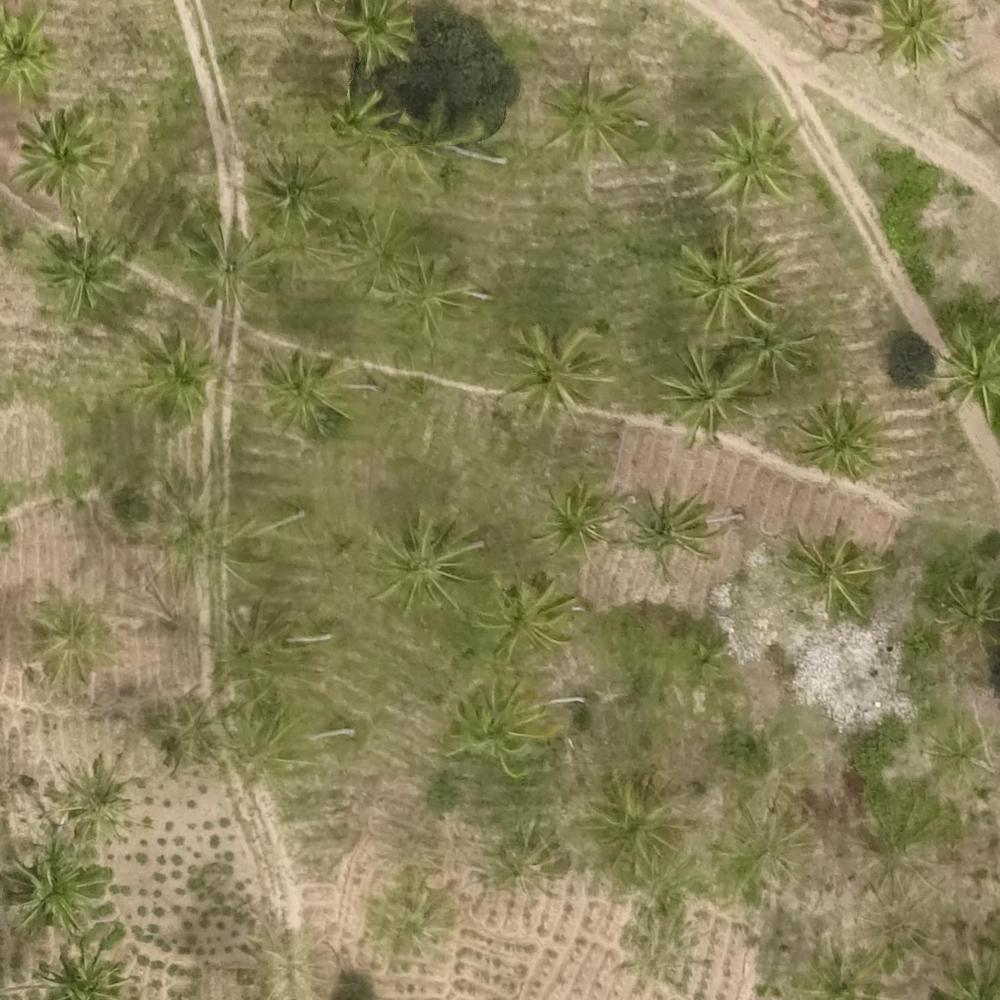Palm: (366, 517, 483, 616), (493, 328, 604, 427), (675, 225, 774, 330), (651, 344, 754, 443), (618, 489, 721, 574), (787, 531, 878, 622), (707, 114, 797, 206), (547, 69, 638, 159), (5, 842, 92, 933), (242, 146, 333, 232), (129, 324, 216, 413), (258, 346, 349, 430), (925, 323, 1000, 422), (41, 227, 128, 312), (730, 306, 820, 388), (869, 1, 962, 79), (793, 398, 877, 482), (186, 223, 267, 310), (16, 112, 102, 193), (54, 763, 134, 844), (492, 581, 574, 659), (533, 484, 616, 561)
